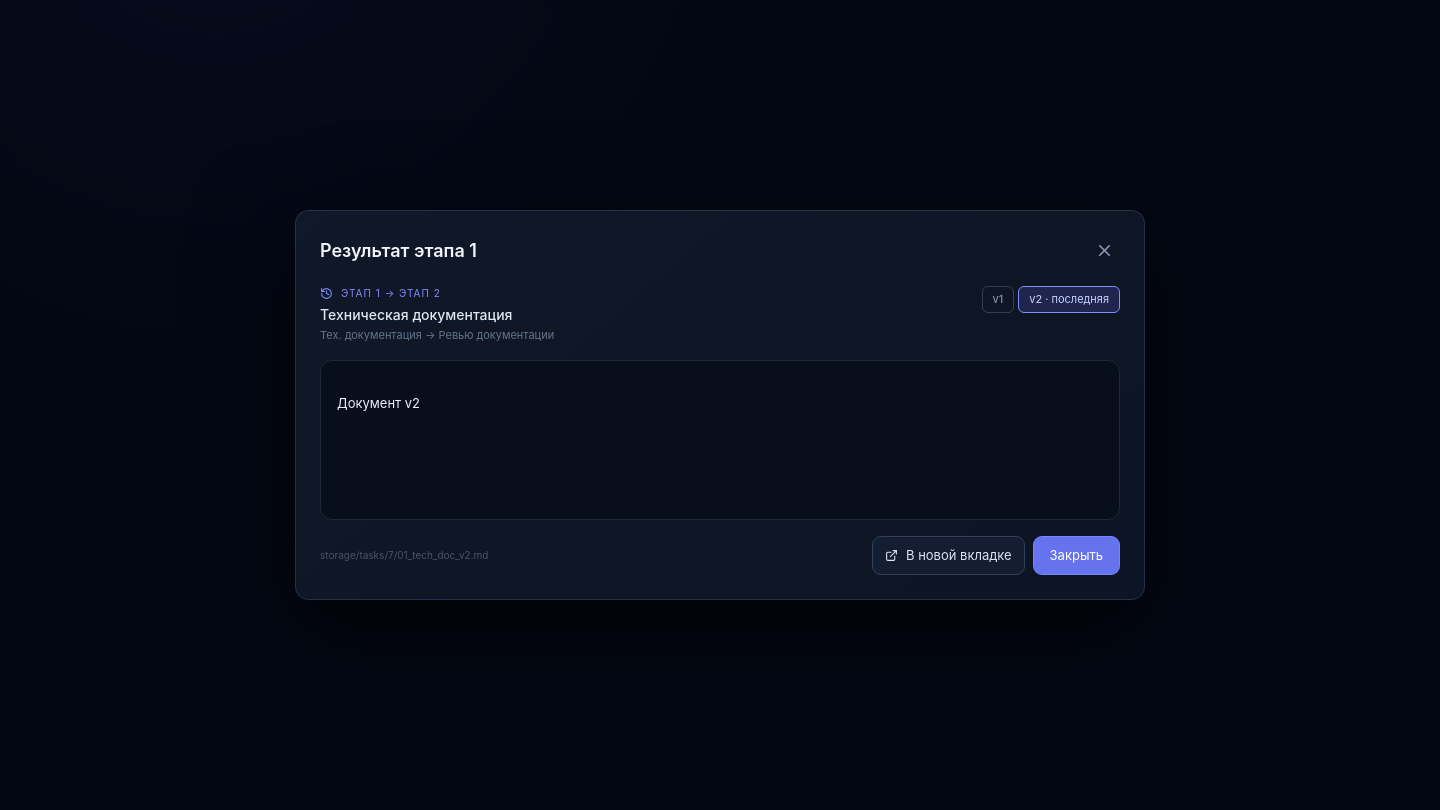
RevisionWindow › switches to an older revision when its version is clicked
expect the heading "Документ v2" is shown: met, box [337, 394, 420, 410]
Click the button "v1" at (998, 299), box [982, 286, 1014, 312]
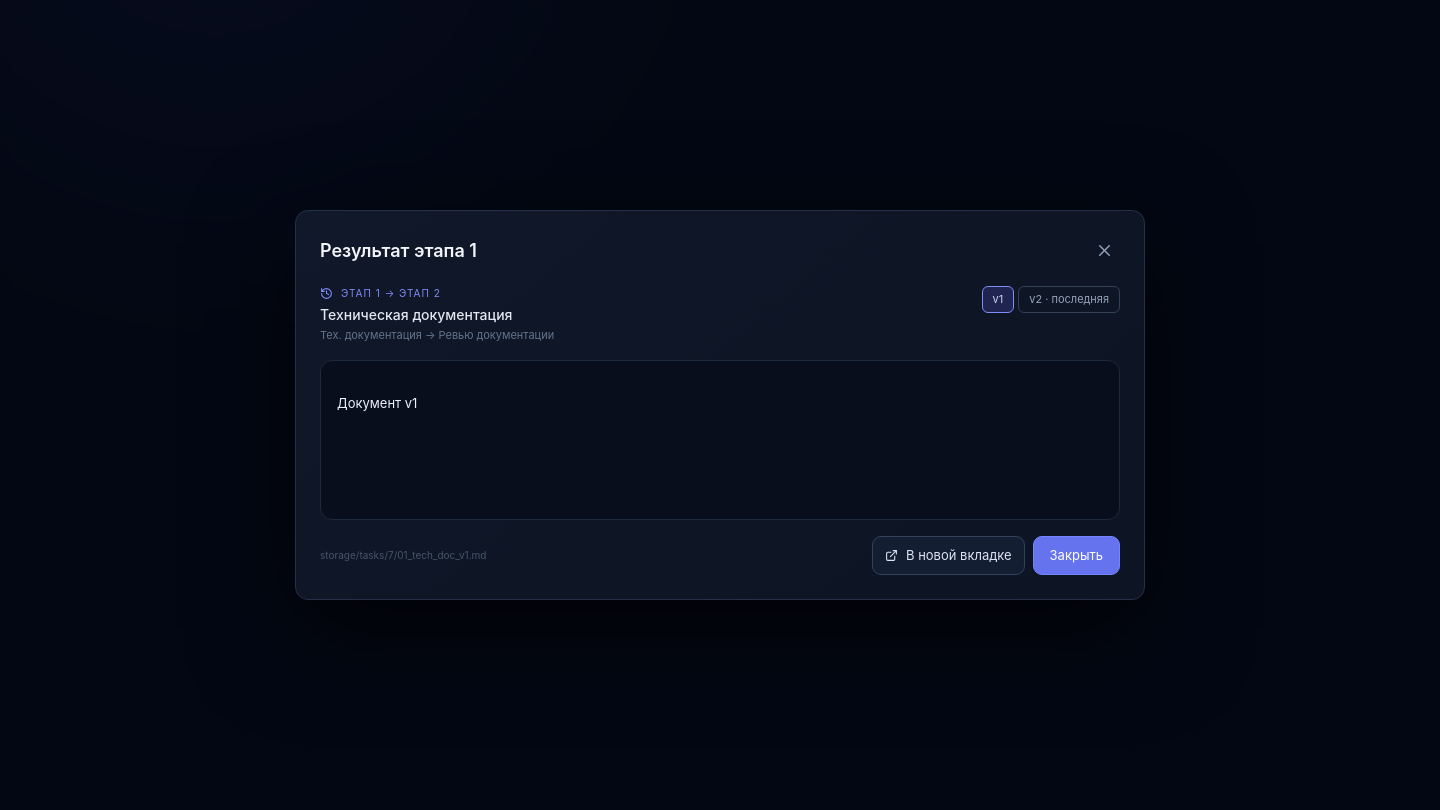
expect the heading "Документ v1" is shown: met, box [337, 394, 417, 410]
